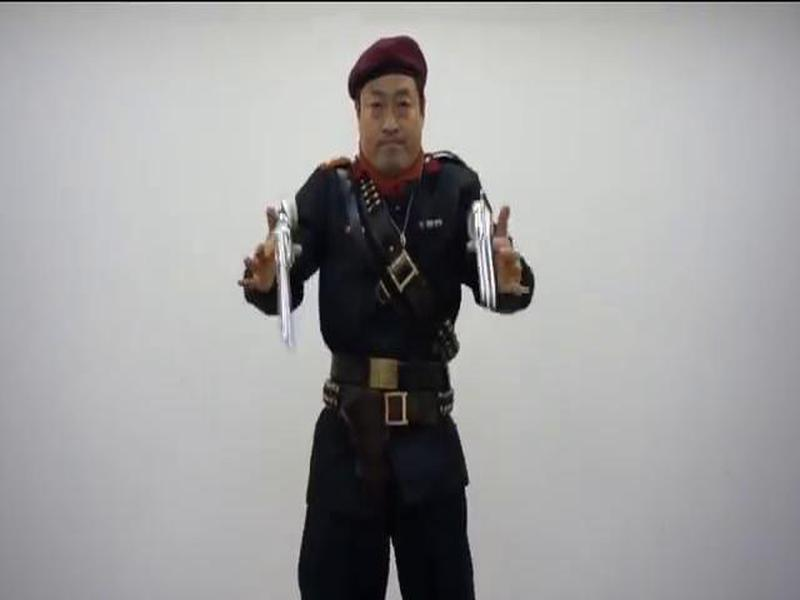Revolver: (247, 194, 318, 363), (459, 188, 505, 316)
